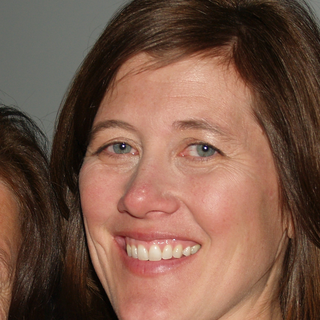eye: (179, 138, 225, 163), (97, 136, 141, 161)
